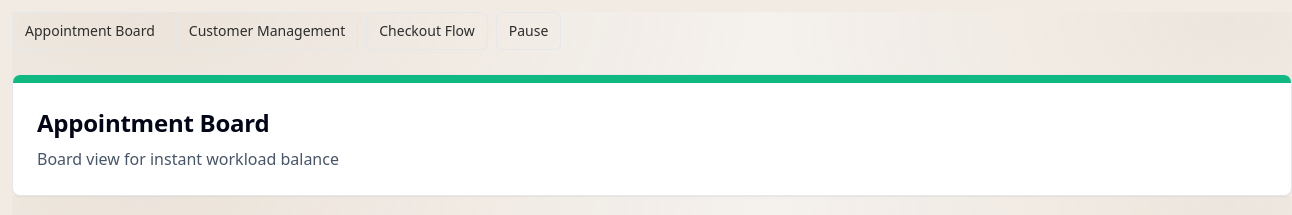
Test: Screenshots Integration › switches slide when selecting a feature button
Click the button "Customer Management". click: {"x": 267, "y": 31}
box: [176,12,358,50]
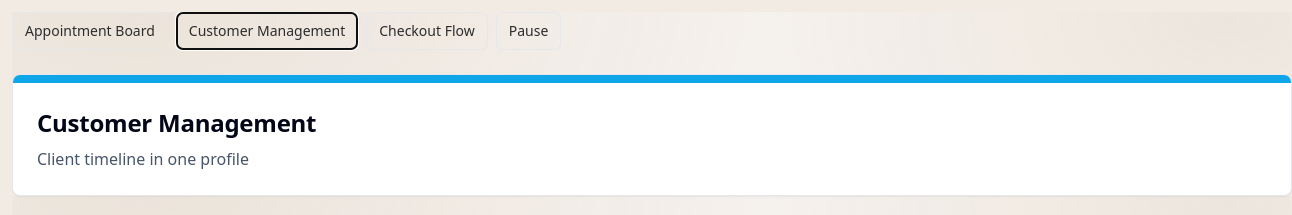
Check: the heading "Customer Management" is shown, box [37,106,316,139]
Check: the text "Client timeline in one profile" is shown, box [37,148,249,170]
